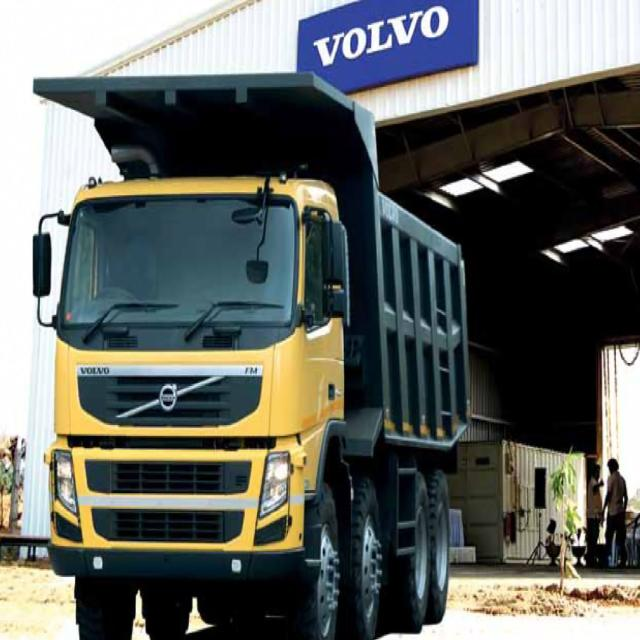dump_truck: (14, 53, 480, 640)
